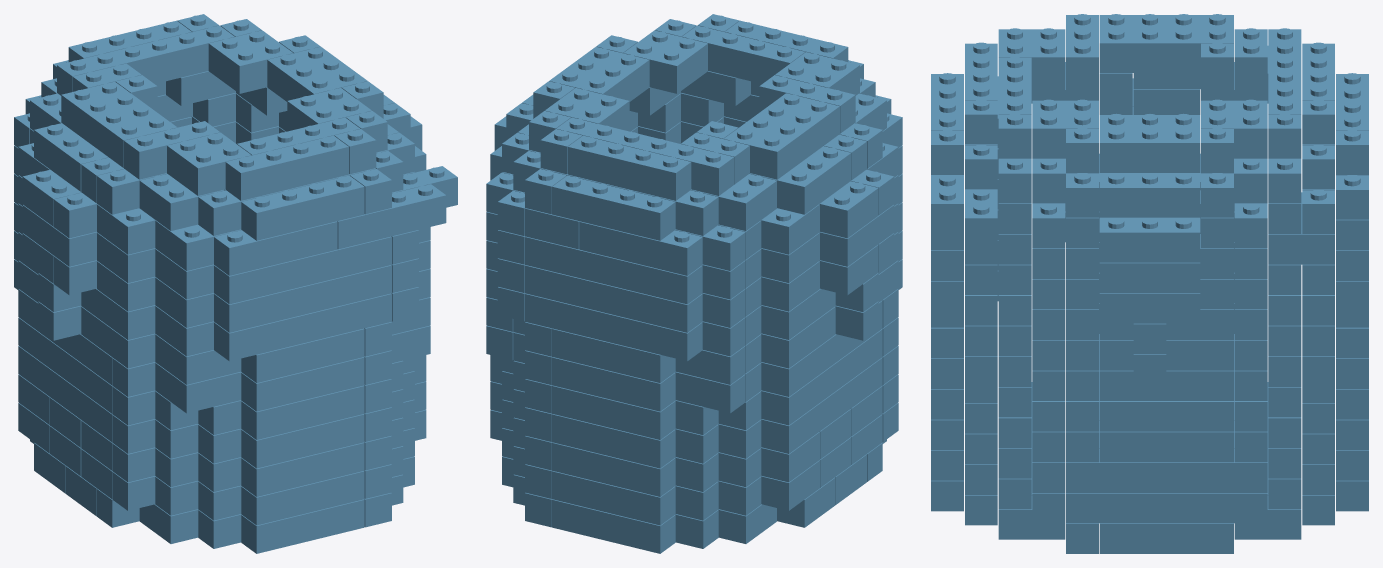
File: 180_jar_L5.glb
The picture shows the model from 3 angles, left to right: view 1: azimuth 30°, elevation 25°; view 2: azimuth 150°, elevation 25°; view 3: azimuth 270°, elevation 25°; orthographic projection. The views are drawn at different scales.
Bounding box in the file's own units: 12.98 × 13.13 × 12.98.
